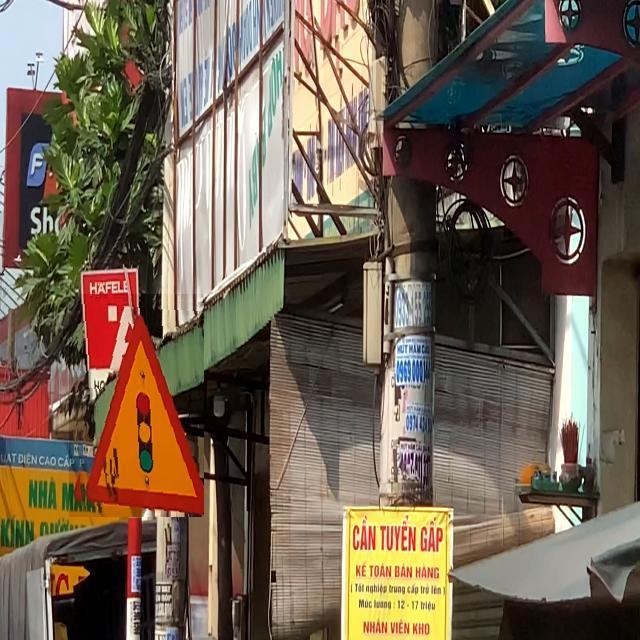W-209: (69, 294, 204, 517)
